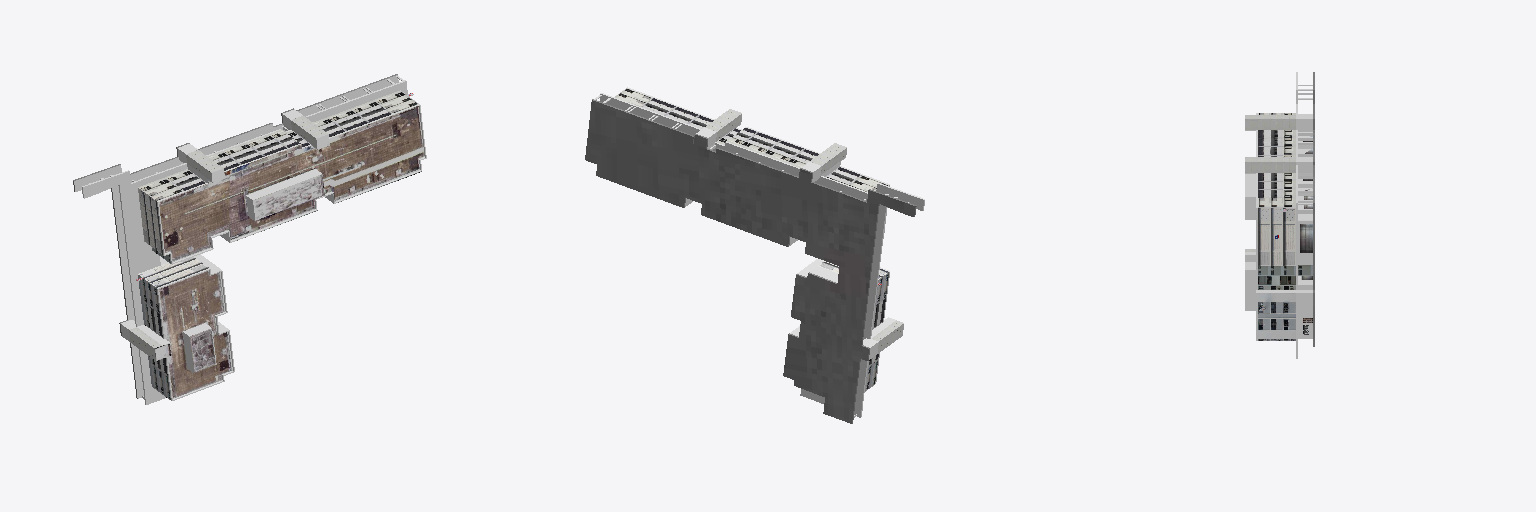
3 views of the same model, side by side, from view 1: azimuth 30°, elevation 25°; view 2: azimuth 150°, elevation 25°; view 3: azimuth 270°, elevation 25° (orthographic).
Visible parts, largest first — view 1: polygon.854; view 2: polygon.854; view 3: polygon.854.
Boxes of the visible parts, box(x1,y1,x2,y2) form: polygon.854: box(73, 74, 426, 404); polygon.854: box(585, 87, 924, 423); polygon.854: box(1245, 72, 1314, 358).
Size of the model in its own units: 84.83 by 63.95 by 15.77.
1 materials, 1 textured.